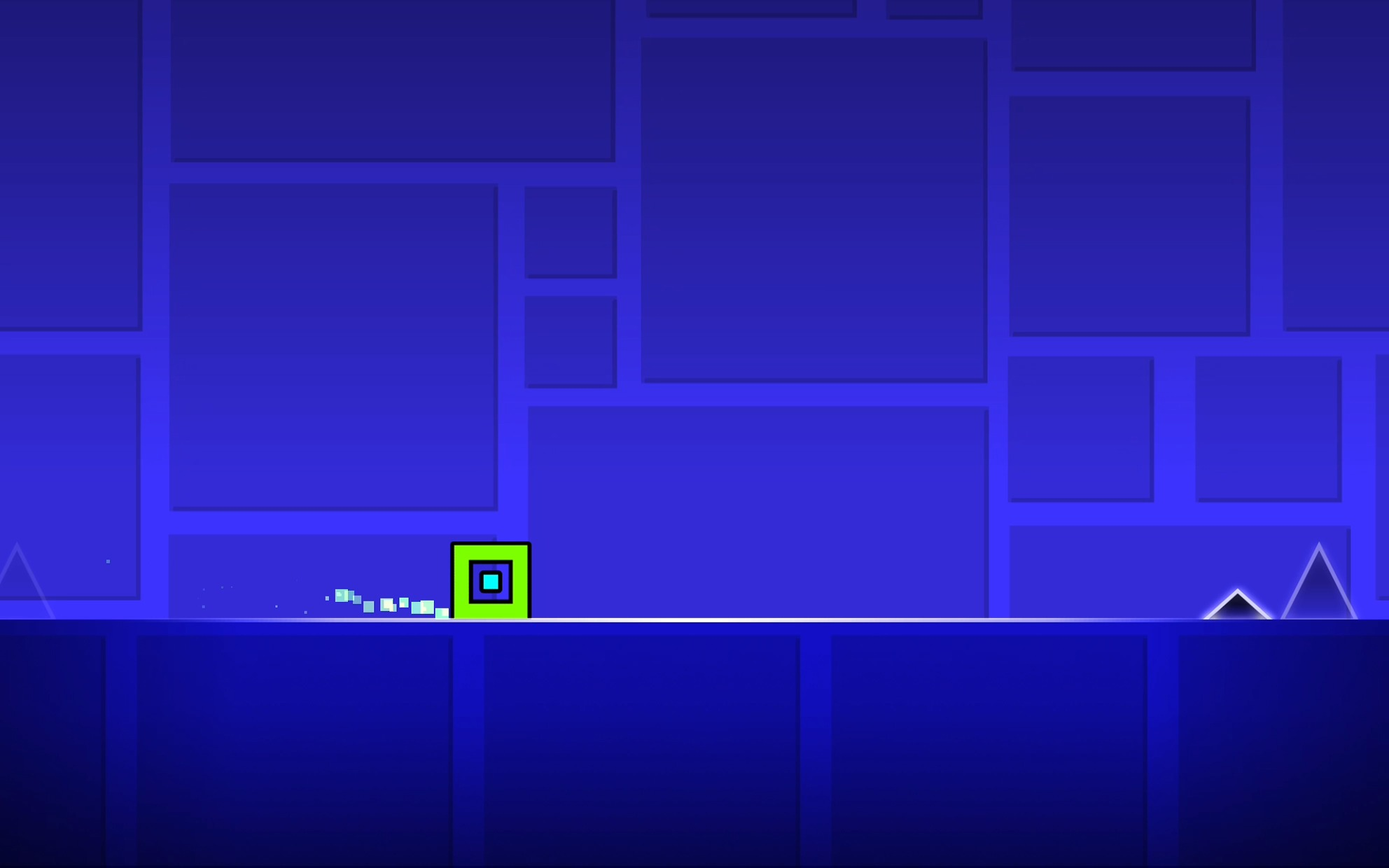Player: (449, 541, 532, 618)
Spike: (1282, 544, 1357, 619)
Spike2: (1203, 588, 1271, 620)
